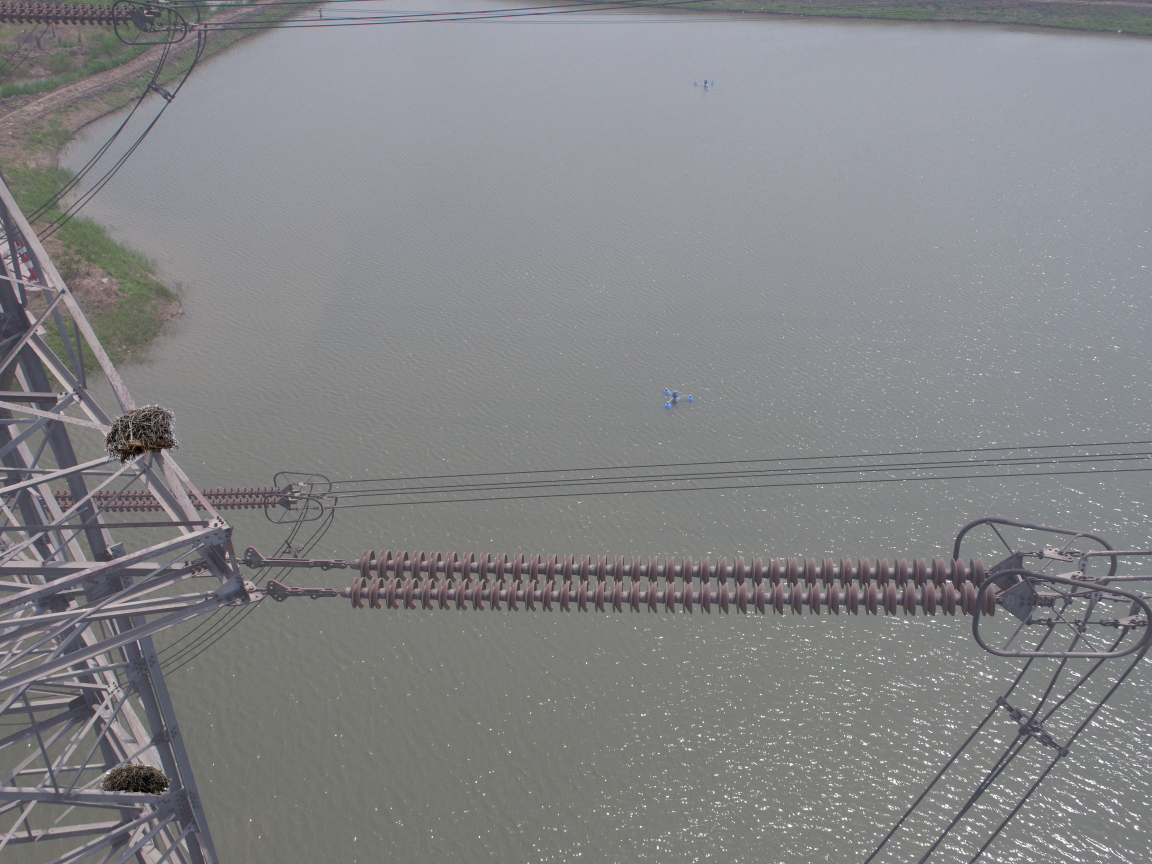nest: (101, 407, 183, 465), (95, 764, 172, 802)
